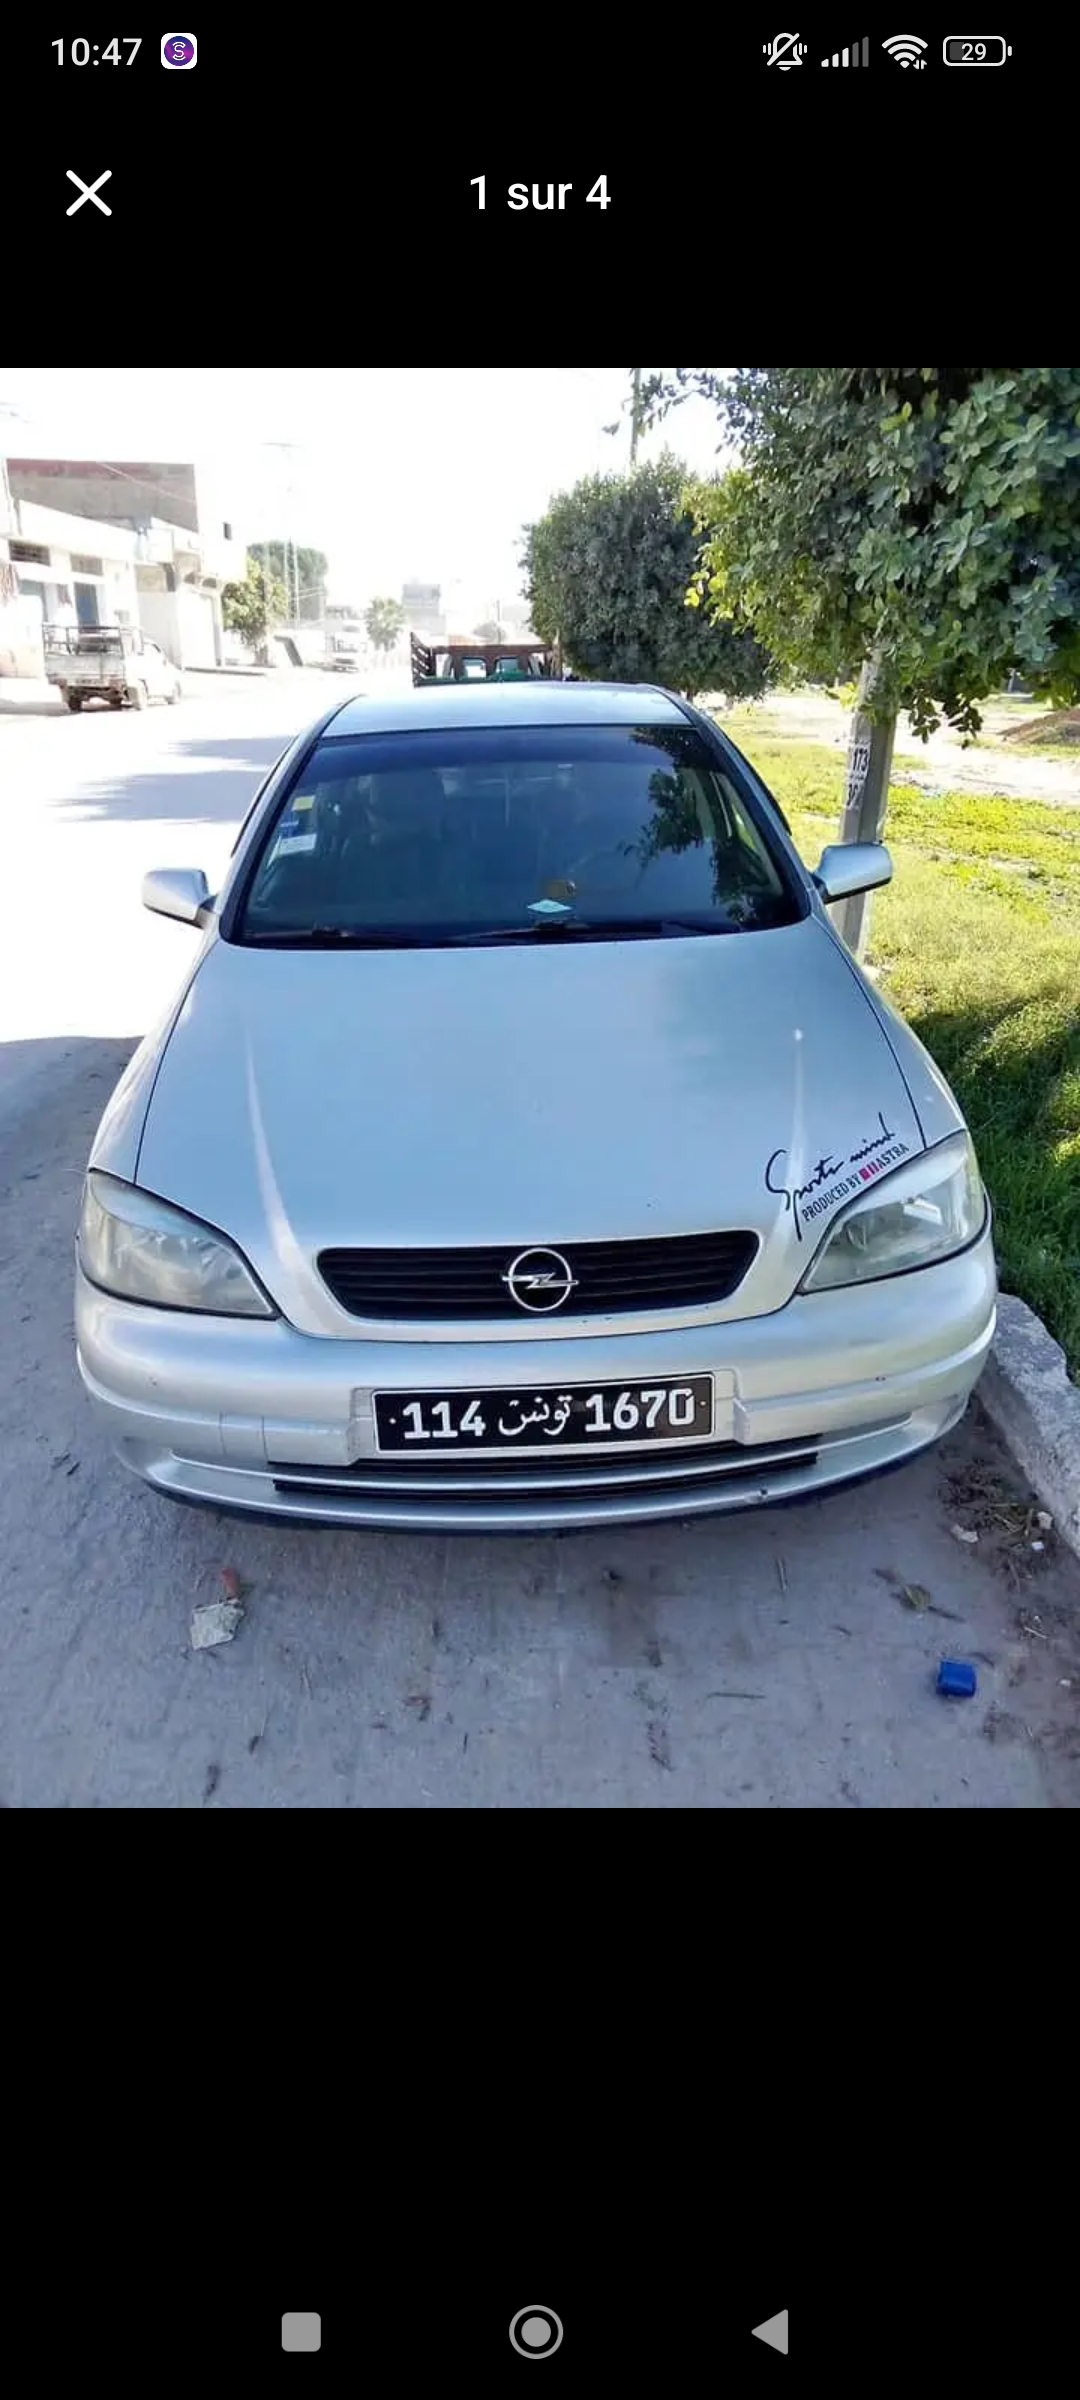opel: (64, 683, 1002, 1505)
